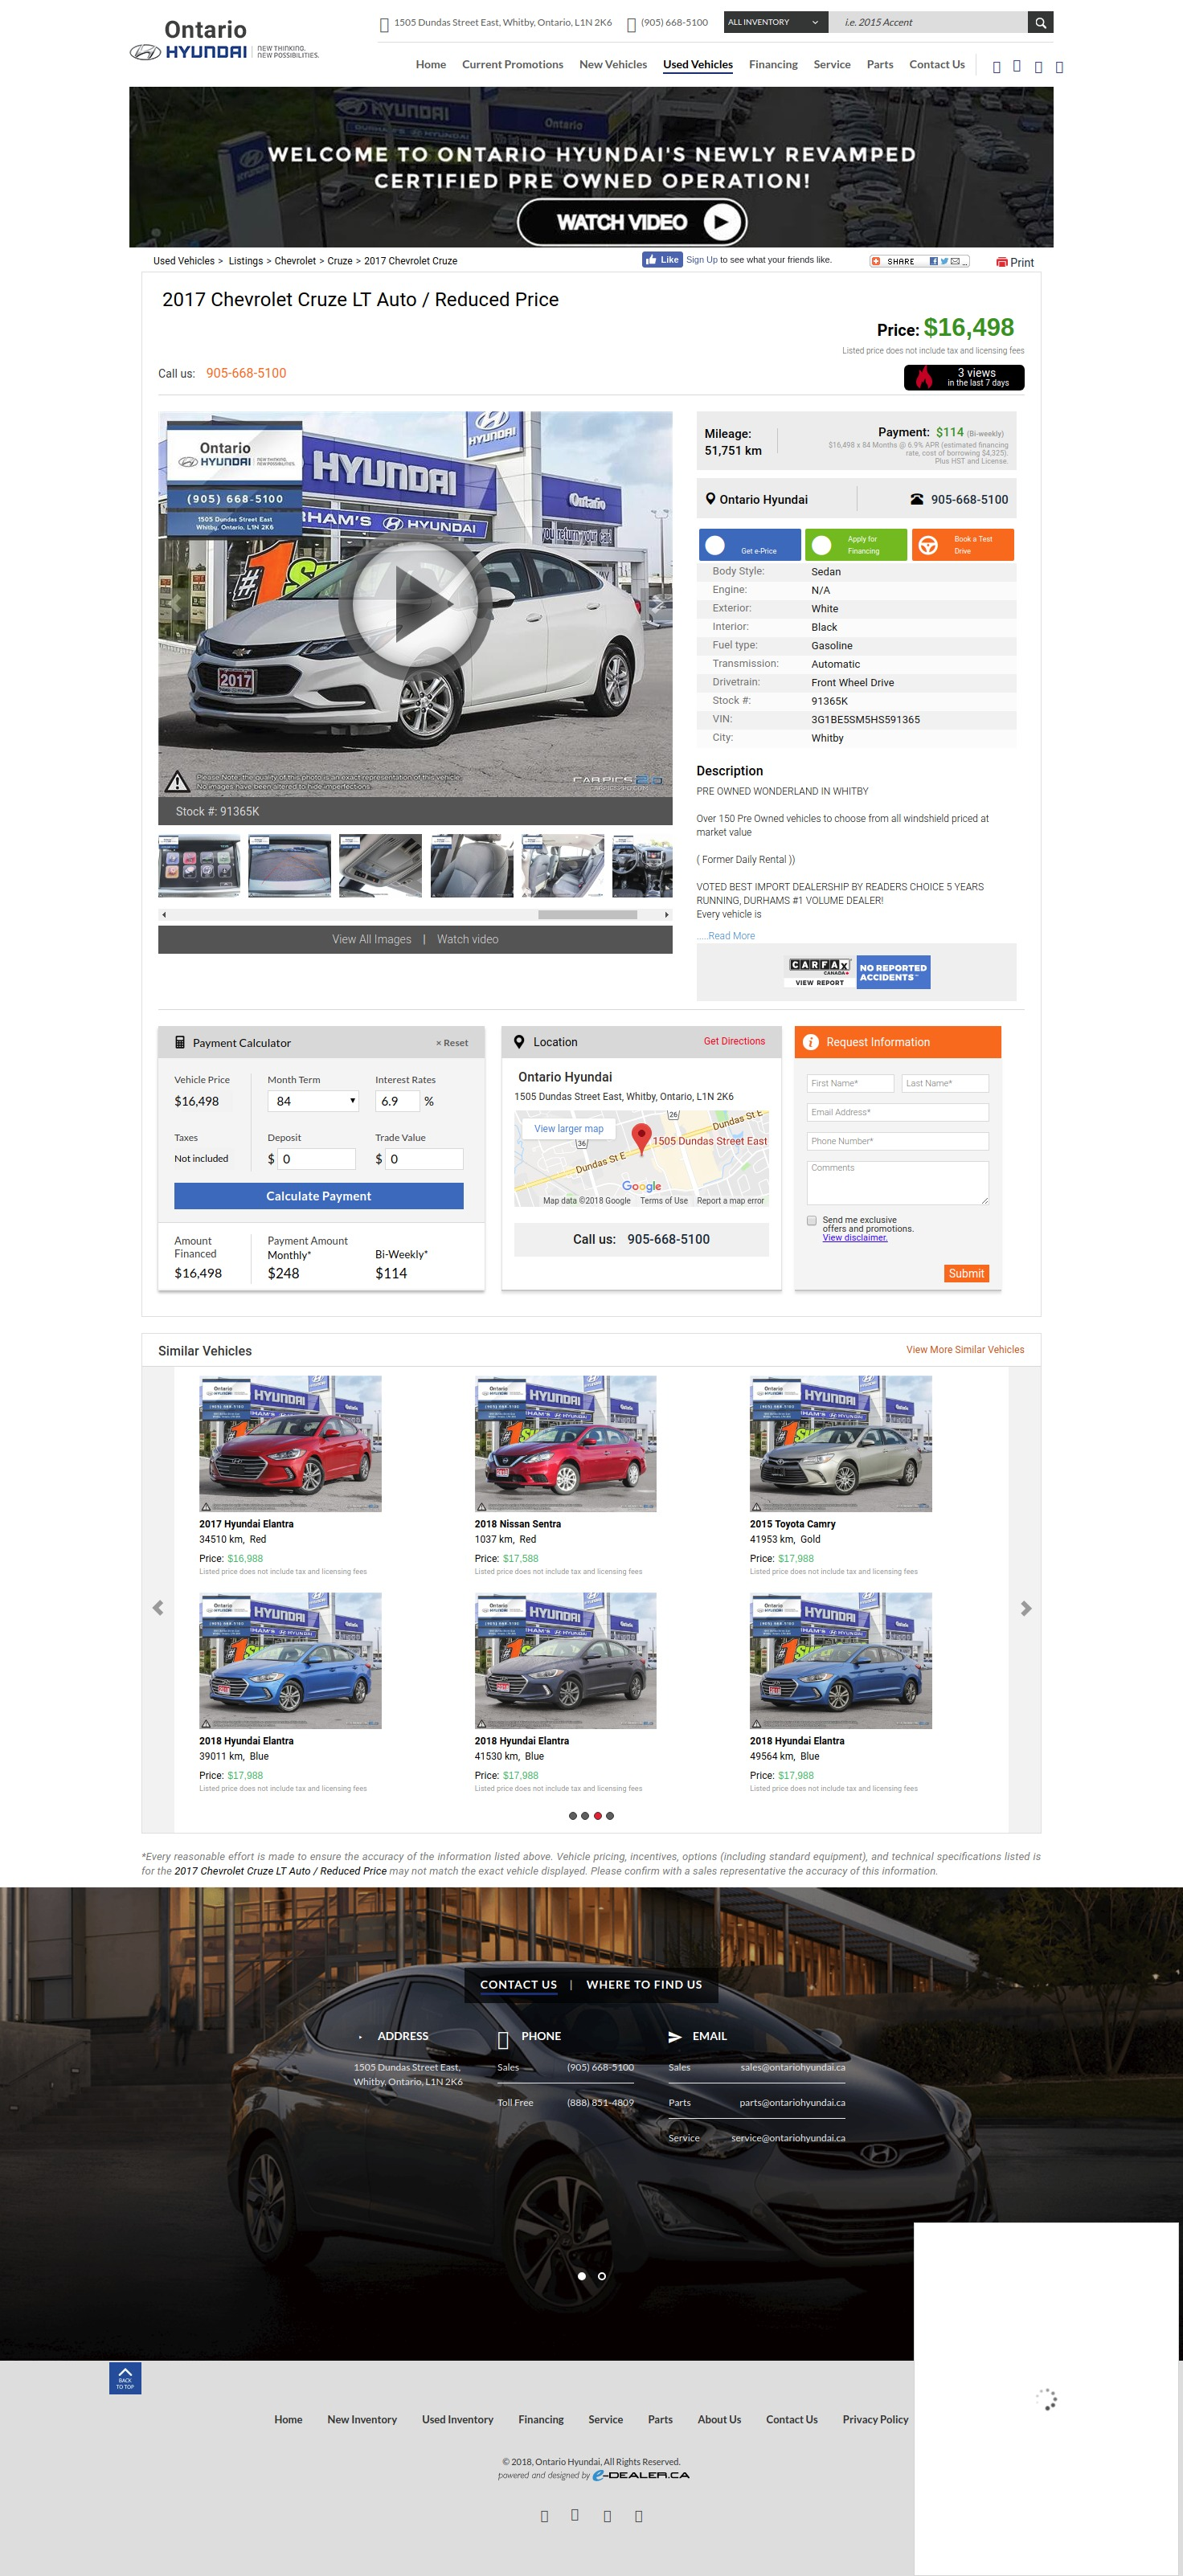car: (665, 912, 670, 920)
